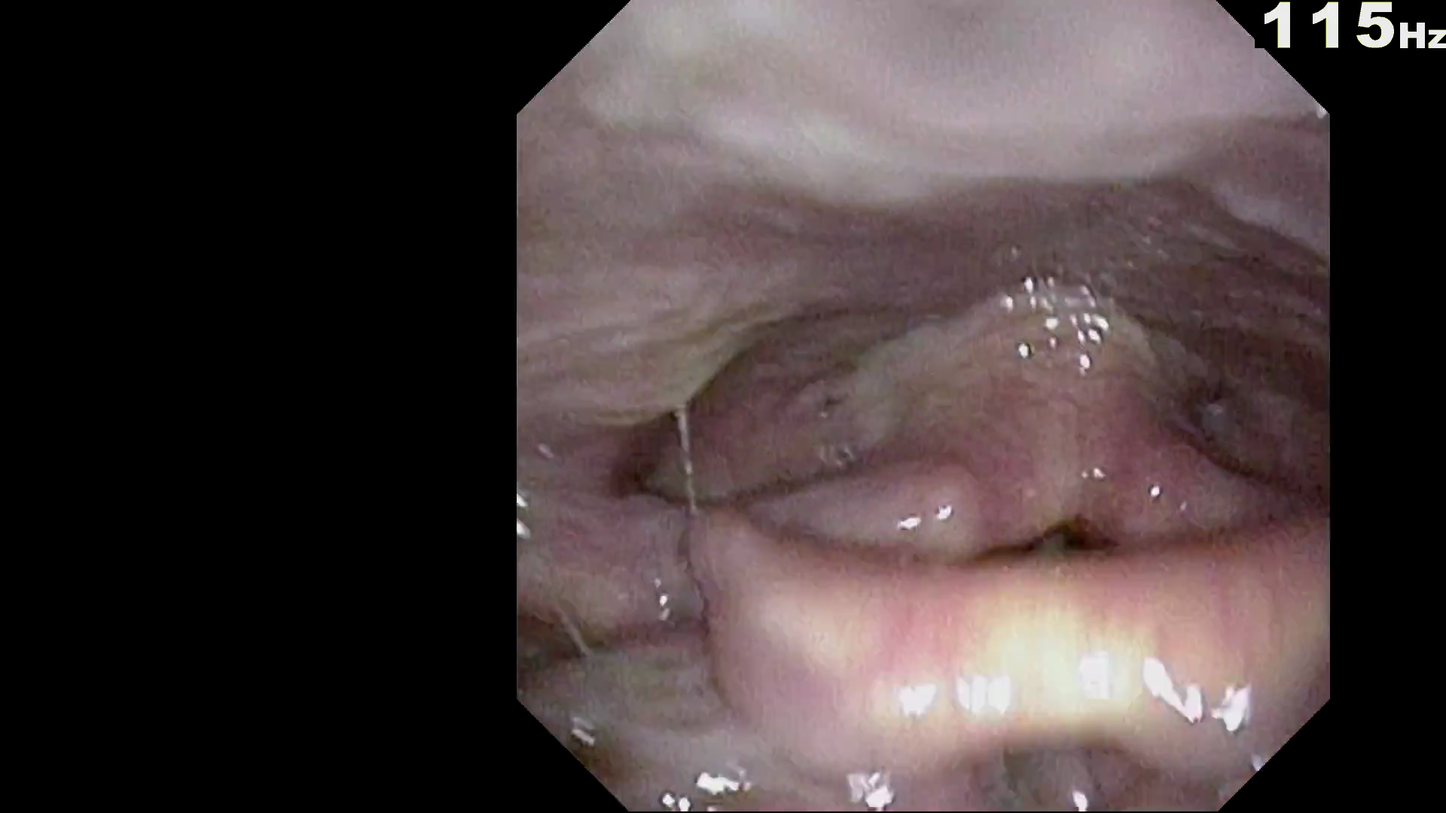epiglottis: (705, 583, 1254, 751)
